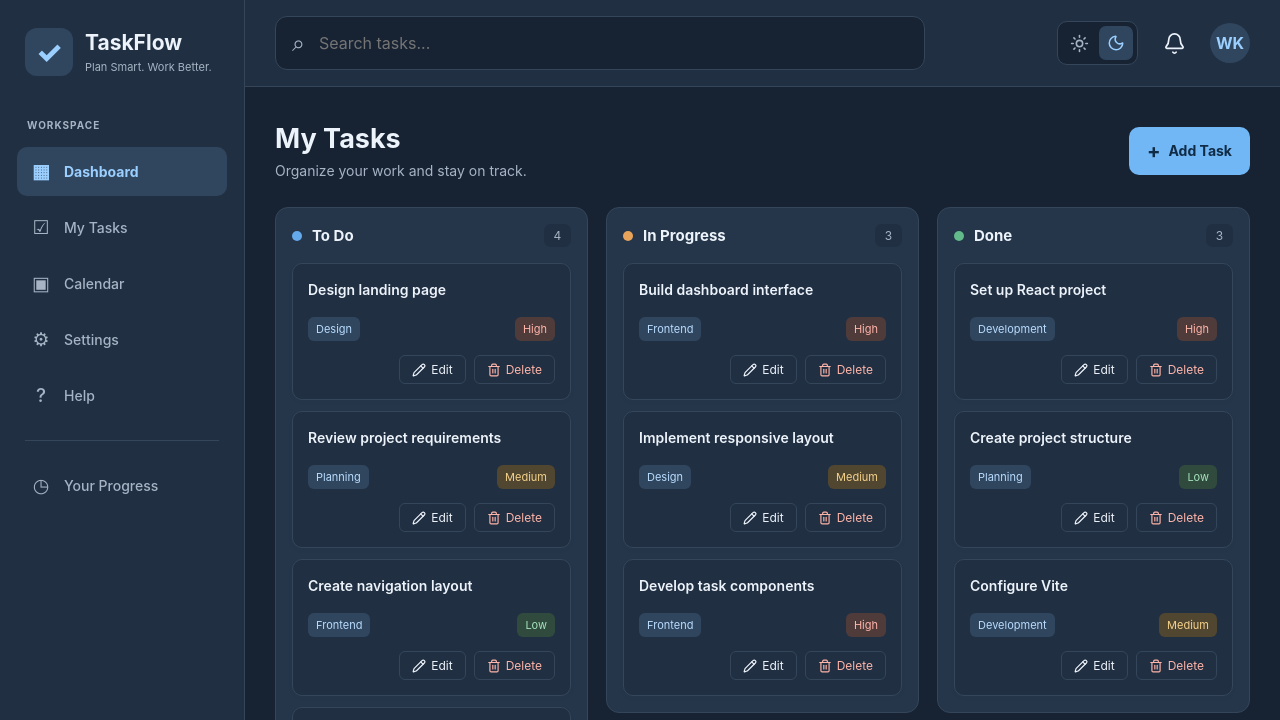
dashboard task statistics › supports saved theme choices and follows device changes in system mode
Click the link "⚙ Settings" at (76, 340), box [32,328,119,351]
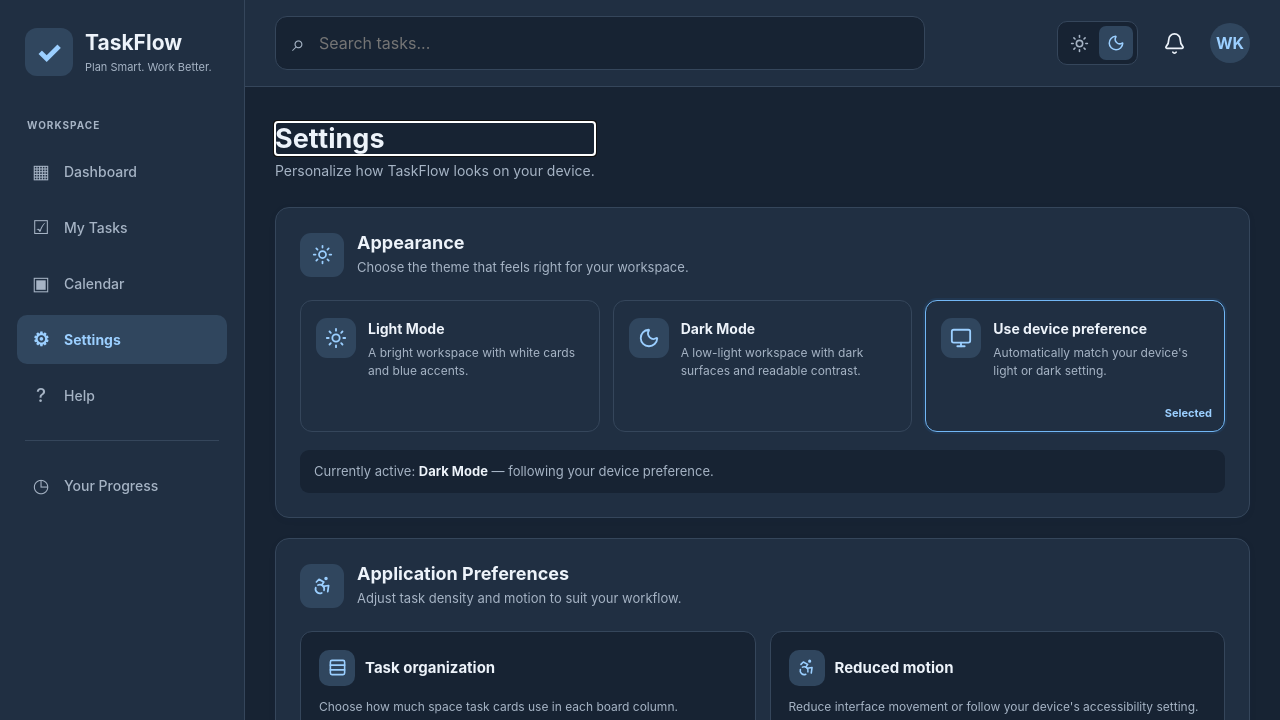
Now the heading "Appearance" is shown, box [357,232,464,253]
Now the message shows "Currently active: Dark Mode", box [300,450,1225,493]
Click the button "Light Mode" at (450, 366), box [300,300,600,432]
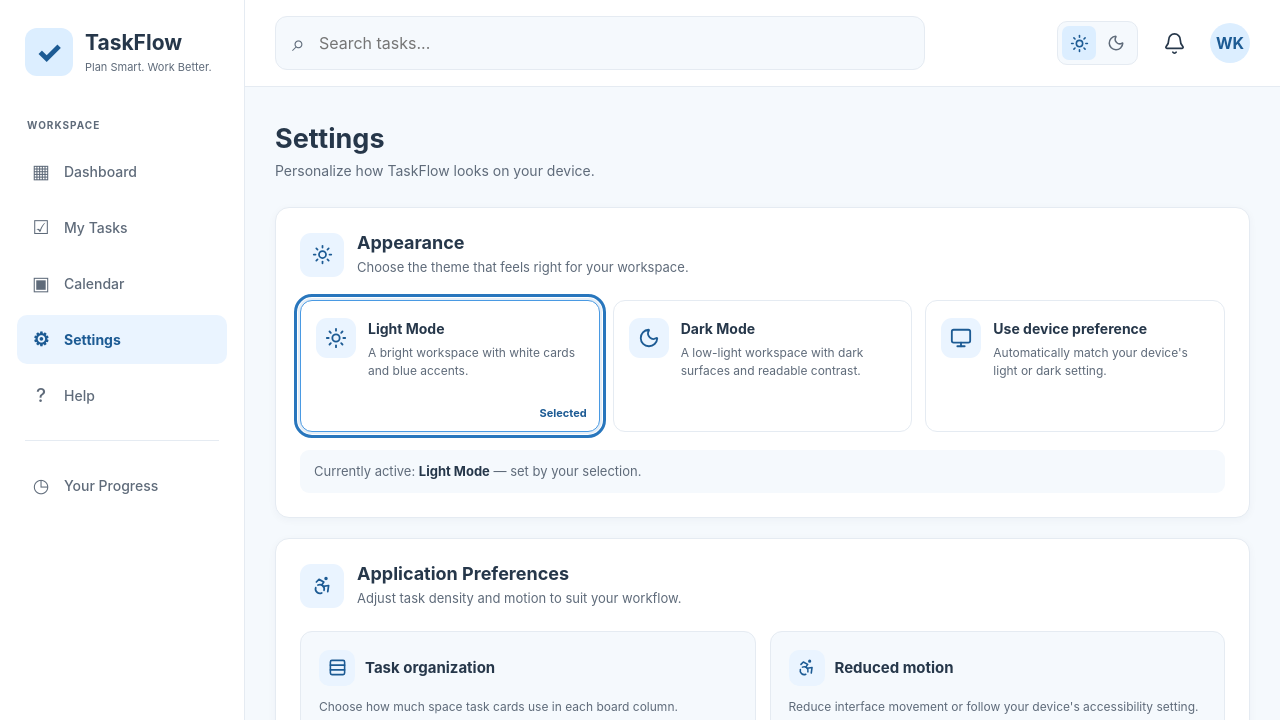
Click the button "Use device preference" at (1075, 366), box [925,300,1225,432]
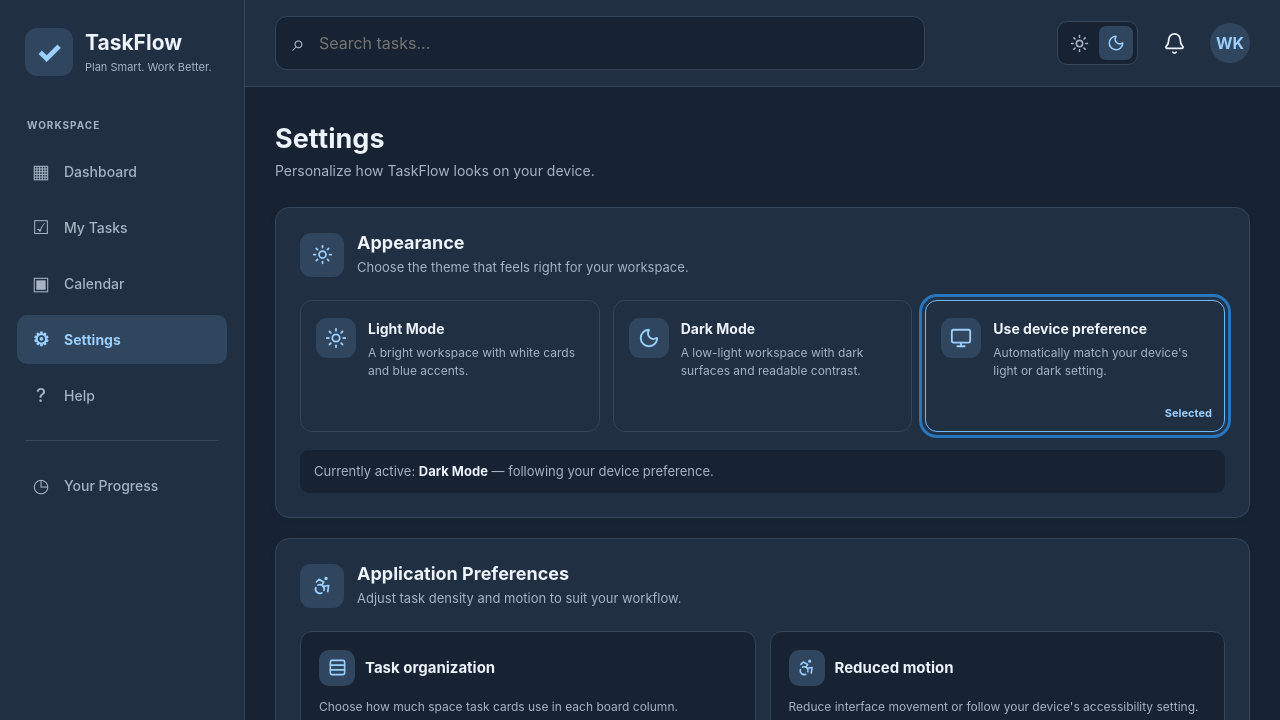
Now the message shows "following your device preference", box [488,462,714,478]
